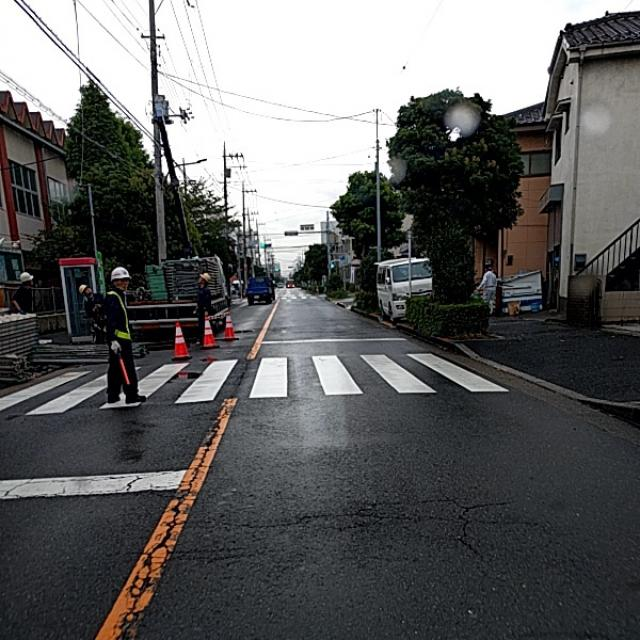pothole: (112, 500, 181, 614)
